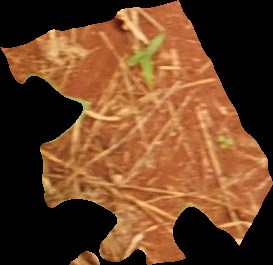soil: (2, 5, 270, 263)
